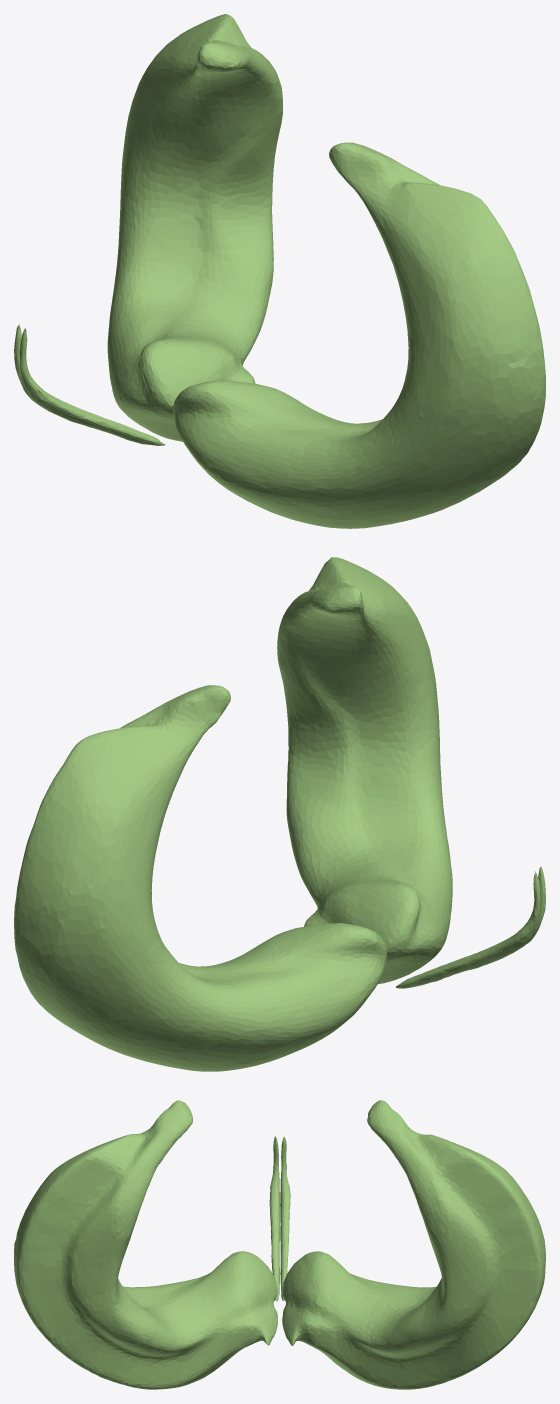
3 renders of one model, top to bottom at view 1: azimuth 30°, elevation 25°; view 2: azimuth 150°, elevation 25°; view 3: azimuth 270°, elevation 25°, orthographic. The views are drawn at different scales.
Visible parts, largest first — view 1: 1080.obj; view 2: 1080.obj; view 3: 1080.obj.
Boxes of the visible parts, x1,y1,x2,y2 form: 1080.obj: (14,14,545,528); 1080.obj: (14,557,545,1071); 1080.obj: (14,1100,545,1389).
Bounding box in the file's own units: 5153 × 4997 × 8487.
